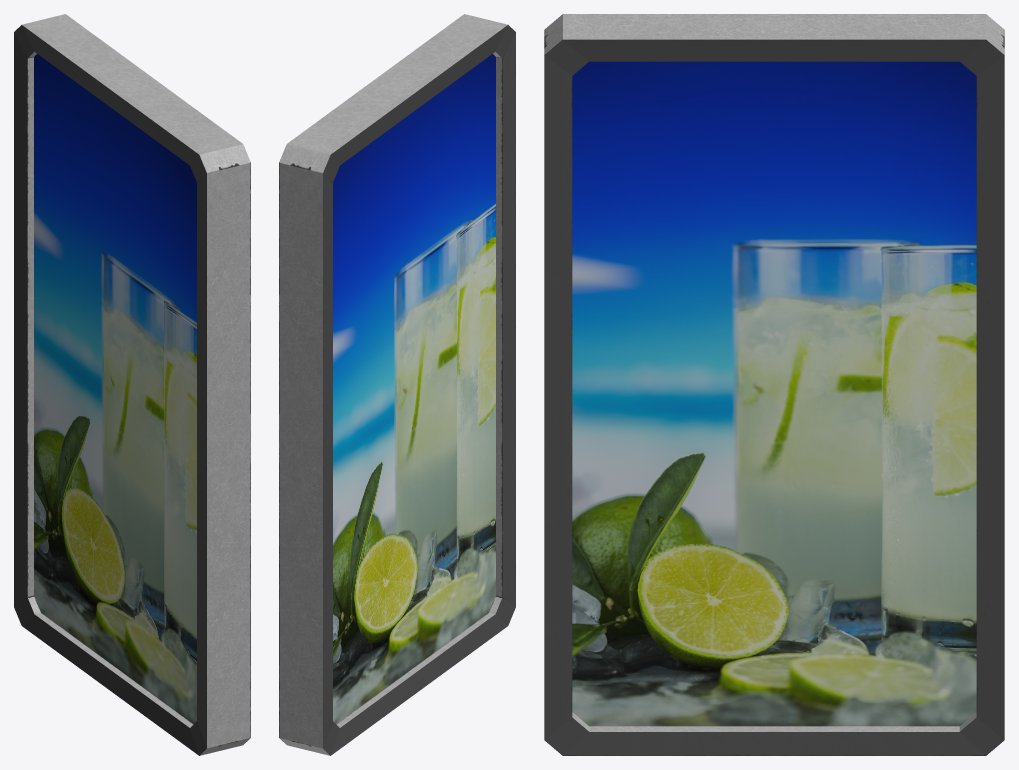
File: Panel011a.FBX
The picture shows the model from 3 angles, left to right: view 1: azimuth 30°, elevation 25°; view 2: azimuth 150°, elevation 25°; view 3: azimuth 270°, elevation 25°; orthographic projection. The views are drawn at different scales.
Parts seen in each view (by area): view 1: Panel011a; view 2: Panel011a; view 3: Panel011a.
Part boxes in pixels (box(x1,y1,x2,y2)): Panel011a: box(14, 14, 250, 755); Panel011a: box(279, 14, 515, 755); Panel011a: box(544, 14, 1004, 755).
Bounding box in the file's own units: 138 × 1803 × 1049.
